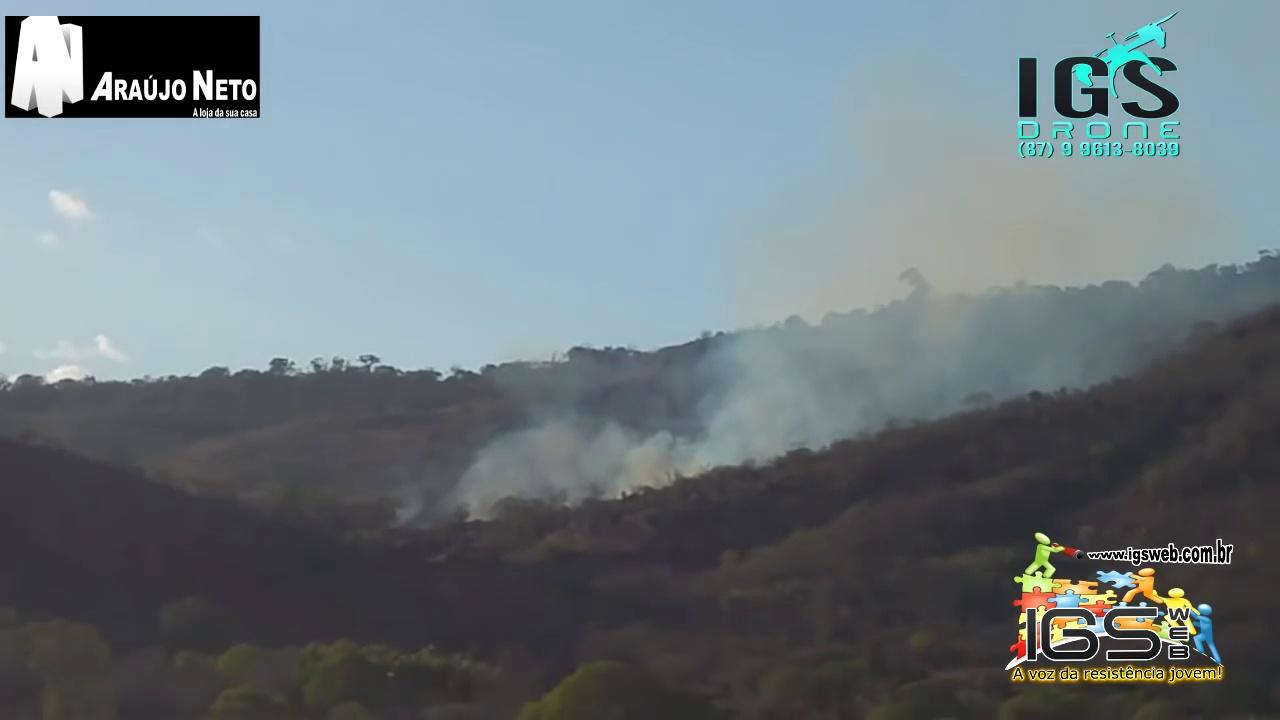smoke: (764, 302, 944, 434), (478, 432, 644, 486)
